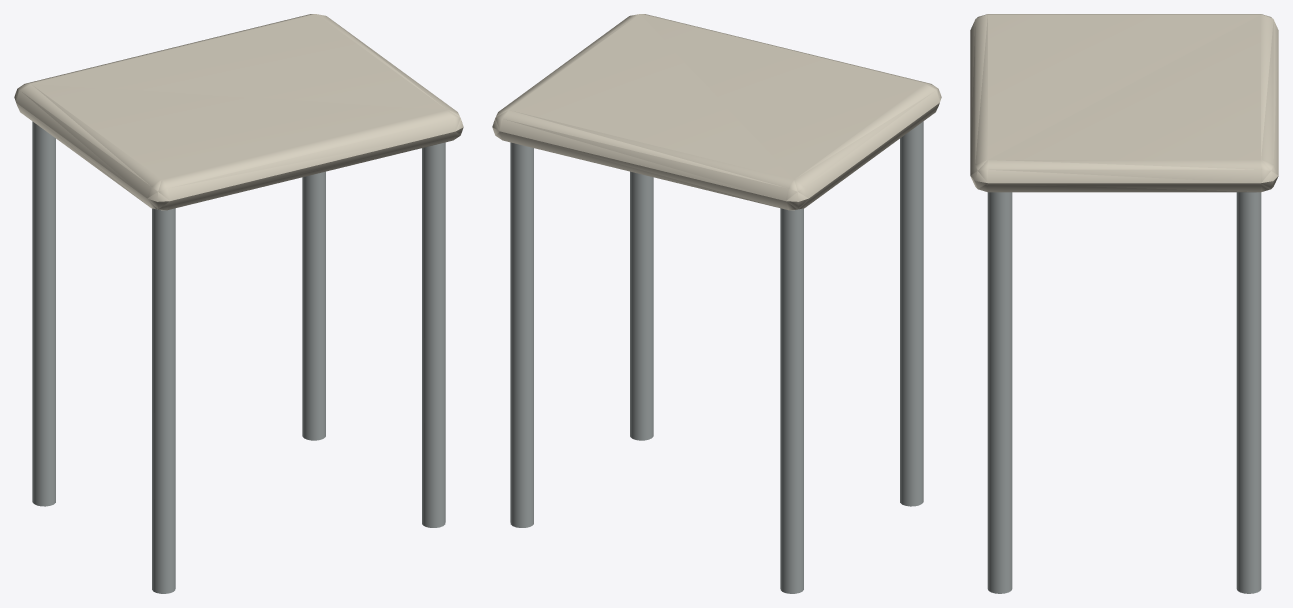
File: 11_starter_coffee_counter.glb
3 renders of one model, left to right at view 1: azimuth 30°, elevation 25°; view 2: azimuth 150°, elevation 25°; view 3: azimuth 270°, elevation 25°, orthographic. The views are drawn at different scales.
Parts seen in each view (by area): view 1: 11_starter_coffee_counter__Static; view 2: 11_starter_coffee_counter__Static; view 3: 11_starter_coffee_counter__Static.
Boxes of the visible parts, bbox=[...] form: 11_starter_coffee_counter__Static: bbox=[14, 14, 463, 593]; 11_starter_coffee_counter__Static: bbox=[492, 14, 941, 593]; 11_starter_coffee_counter__Static: bbox=[970, 14, 1278, 593].
Size of the model in its own units: 0.7 by 0.8825 by 0.57.
